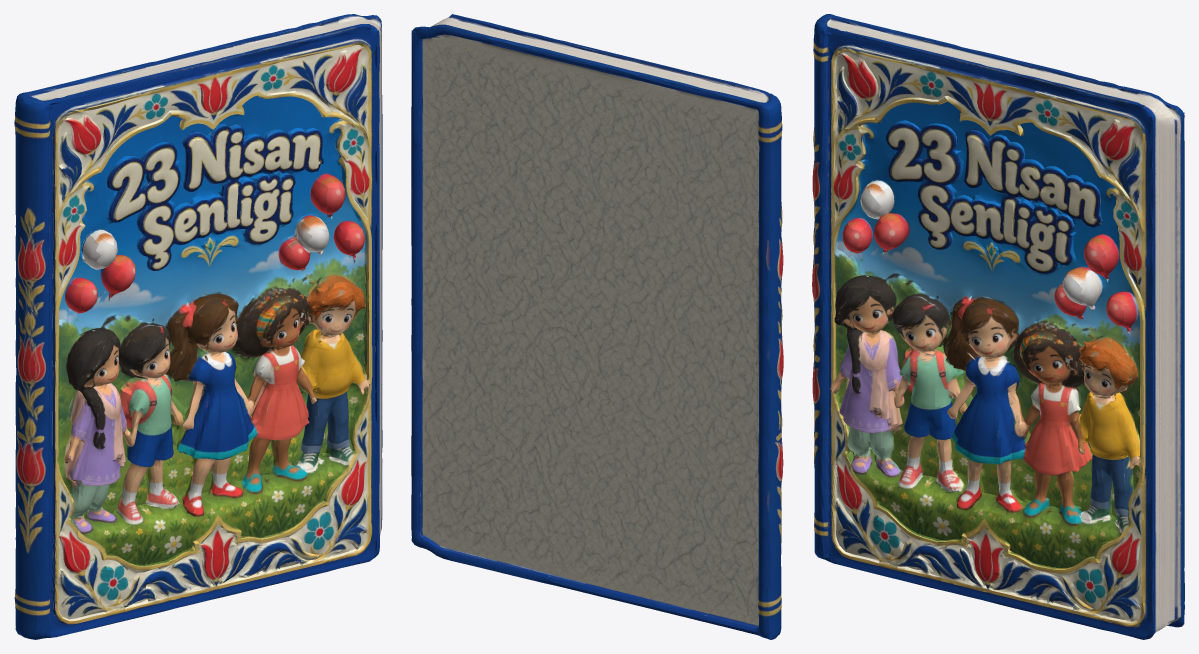
The model's file is 23-nisan.glb.
3 renders of one model, left to right at view 1: azimuth 30°, elevation 25°; view 2: azimuth 150°, elevation 25°; view 3: azimuth 330°, elevation 25°, orthographic.
Parts seen in each view (by area): view 1: Mesh0; view 2: Mesh0; view 3: Mesh0.
Boxes of the visible parts, x1,y1,x2,y2 form: Mesh0: (14,14,382,639); Mesh0: (411,14,783,639); Mesh0: (812,14,1184,639).
Size of the model in its own units: 1.36 by 1.9 by 0.2218.
Materials: 1 (1 with a texture image).
